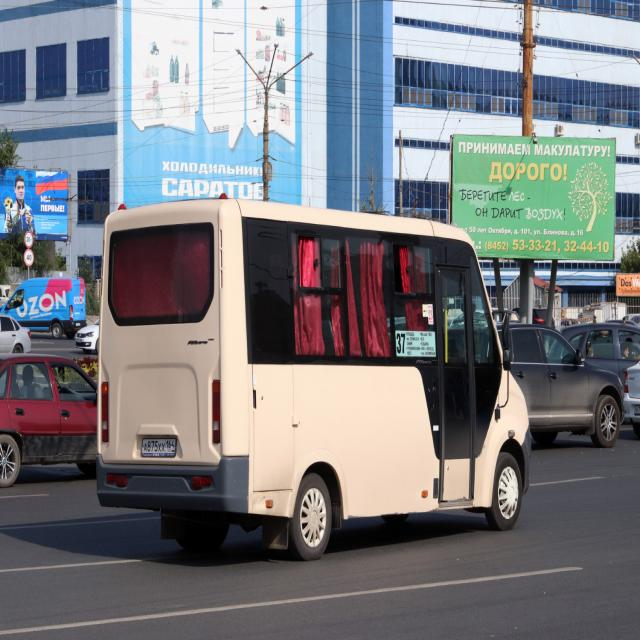number-of-bus: (396, 333, 407, 356)
